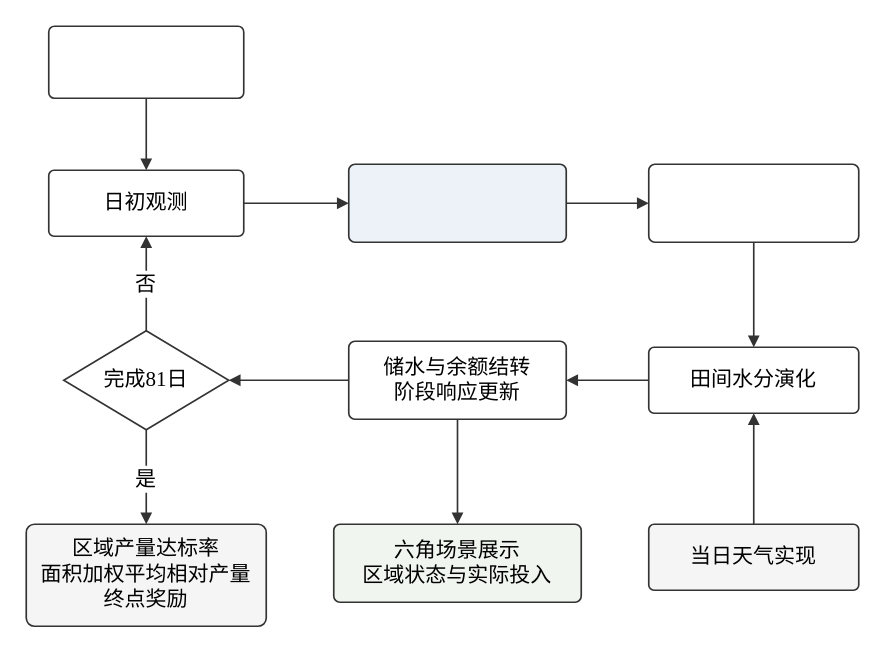
This 887x654 diagram has some shape labels left out. Here are the shapes that lost their labels. From the top down, the box of each, then its label:
(47, 25, 244, 98): 回合初始化 储水与供水余额
(347, 163, 566, 242): 外部联合配置策略 总量与区域投入
(647, 163, 859, 242): 89区入田动作 供水约束检查
